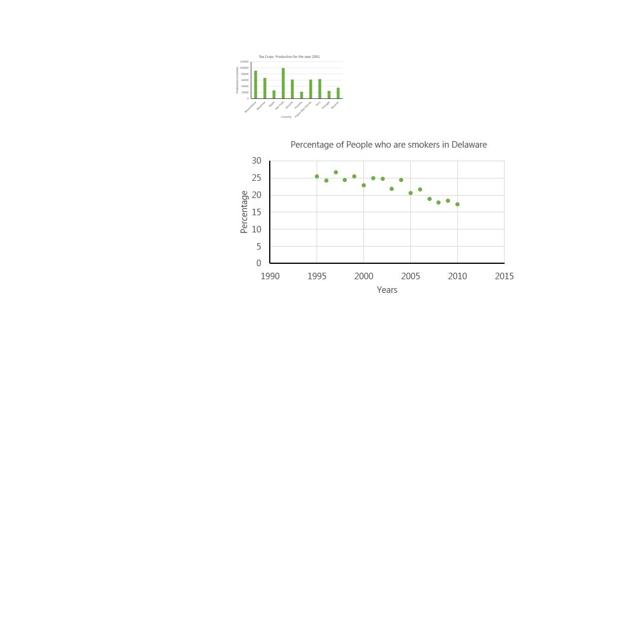Graph: (233, 134, 520, 300), (234, 53, 345, 119)
